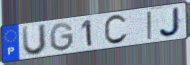1: (80, 18, 93, 48)
C: (103, 14, 130, 47)
G: (48, 21, 75, 53)
I: (146, 10, 155, 41)
J: (158, 6, 183, 39)
U: (21, 23, 48, 57)
